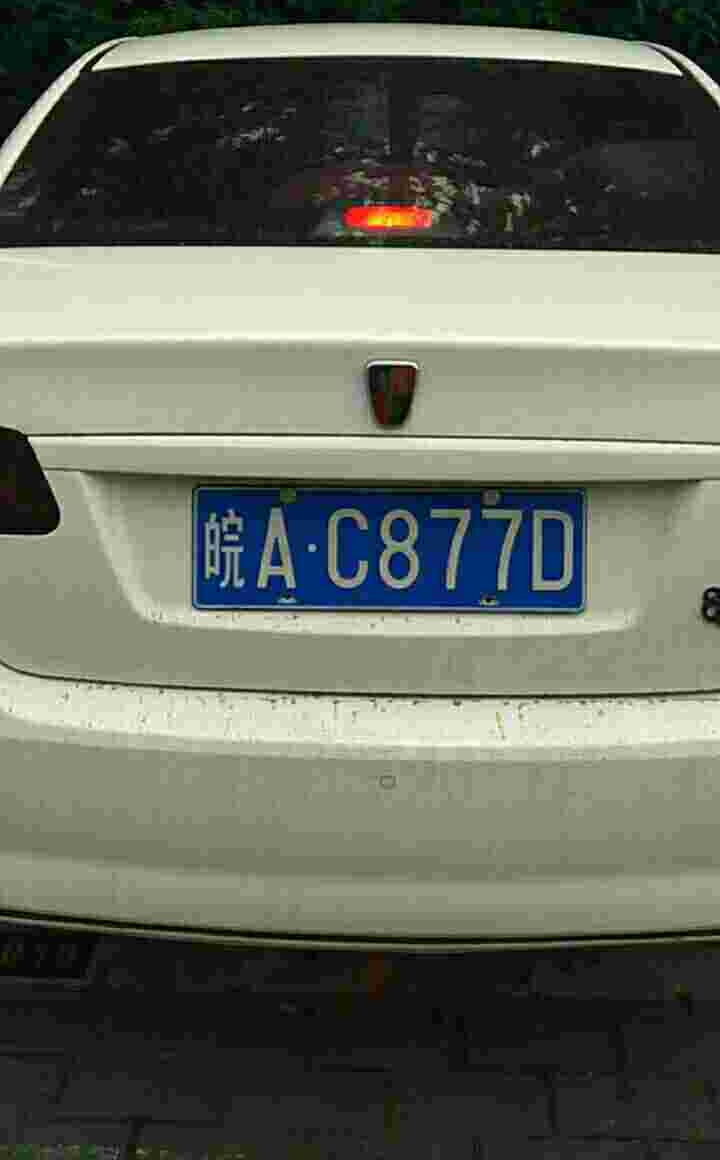car_blue: (188, 470, 597, 620)
